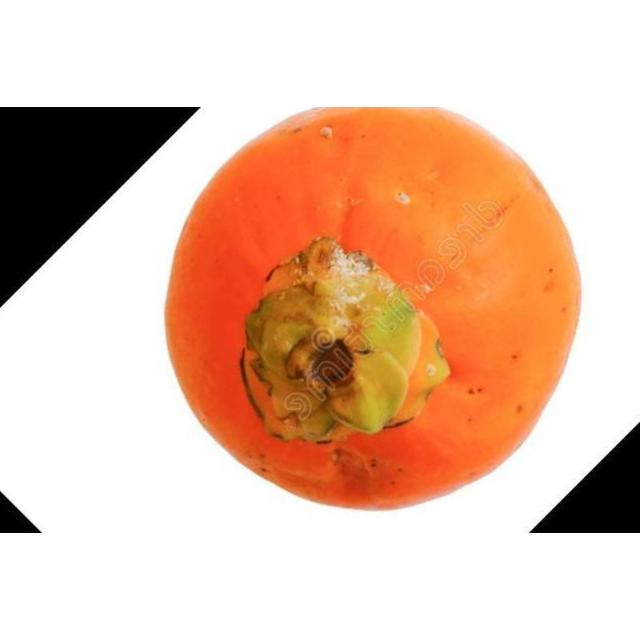good: (165, 107, 582, 513)
